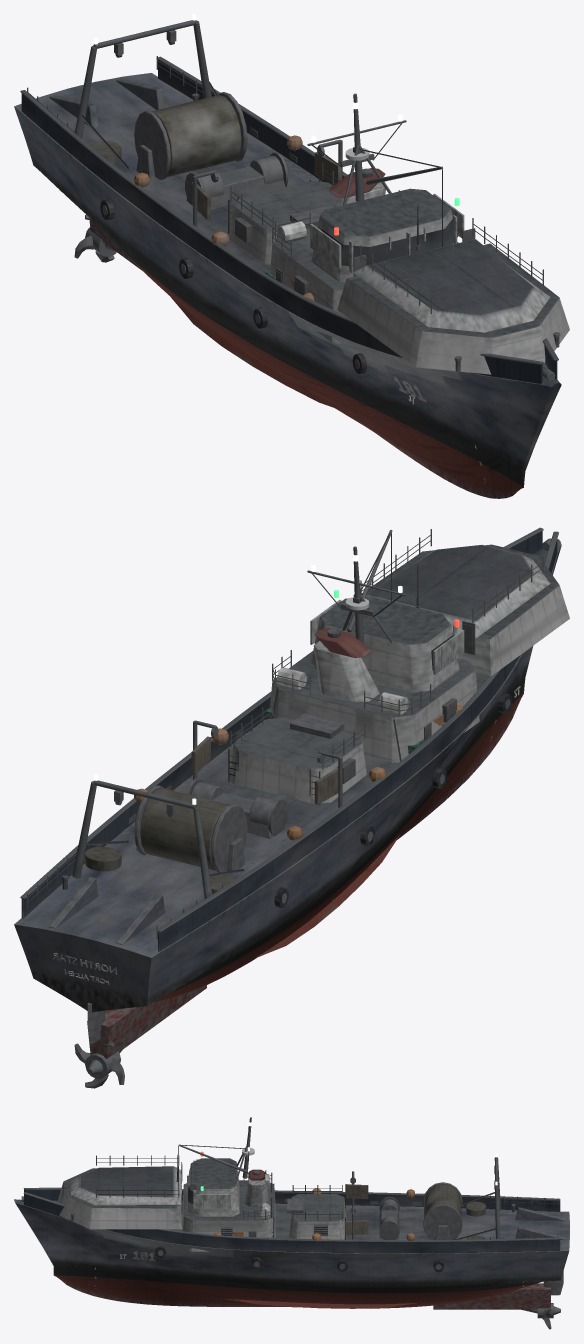
File: trawler.glb
3 views of the same model, one above another, from view 1: azimuth 30°, elevation 25°; view 2: azimuth 150°, elevation 25°; view 3: azimuth 270°, elevation 25° (orthographic). The views are drawn at different scales.
Parts seen in each view (by area): view 1: tr_super, tr_hull, tr_detail; view 2: tr_super, tr_hull, tr_detail; view 3: tr_hull, tr_super, tr_detail.
Part boxes in pixels (left/top/right/bottom): tr_super: left=20, top=20, right=569, bottom=383; tr_hull: left=14, top=73, right=561, bottom=498; tr_detail: left=27, top=14, right=560, bottom=482; tr_super: left=20, top=527, right=569, bottom=951; tr_hull: left=14, top=539, right=561, bottom=1088; tr_detail: left=27, top=529, right=543, bottom=985; tr_hull: left=14, top=1199, right=569, bottom=1329; tr_super: left=21, top=1117, right=565, bottom=1253; tr_detail: left=71, top=1122, right=558, bottom=1288.
Bounding box in the file's own units: 10.9 × 19.86 × 48.
Materials: 19 (19 with a texture image).
